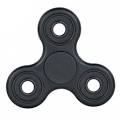fidget_spinner: (2, 1, 117, 119)
